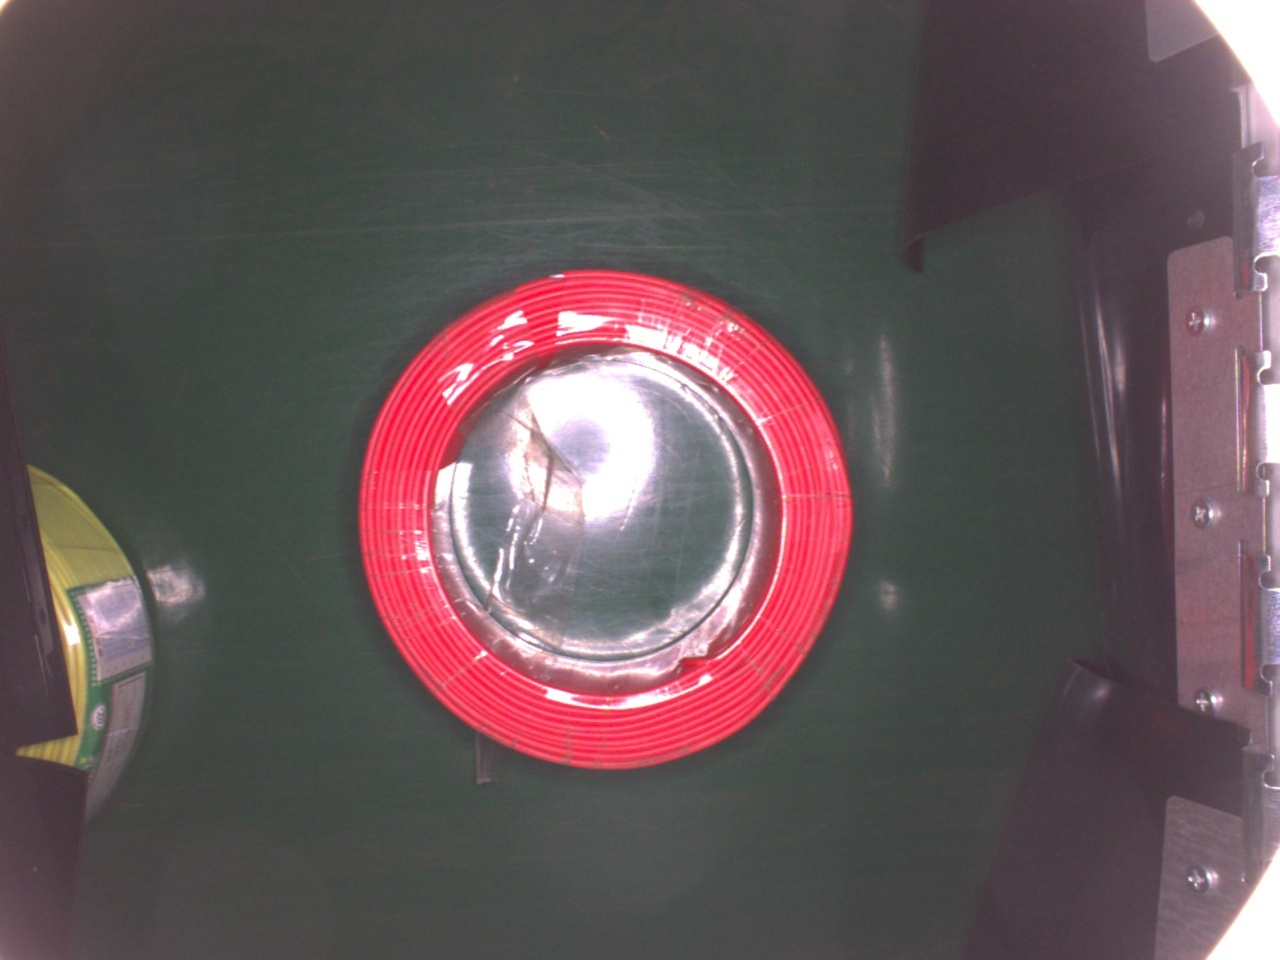red: (352, 268, 864, 768)
yellow: (20, 460, 154, 840)
